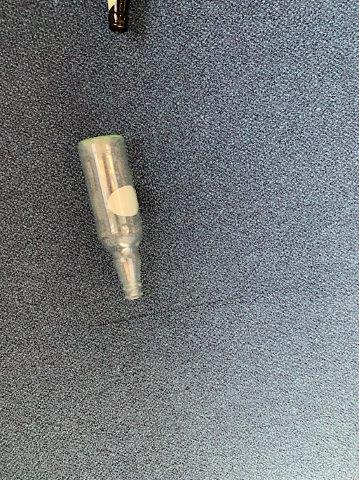botolkaca: (78, 135, 146, 300)
